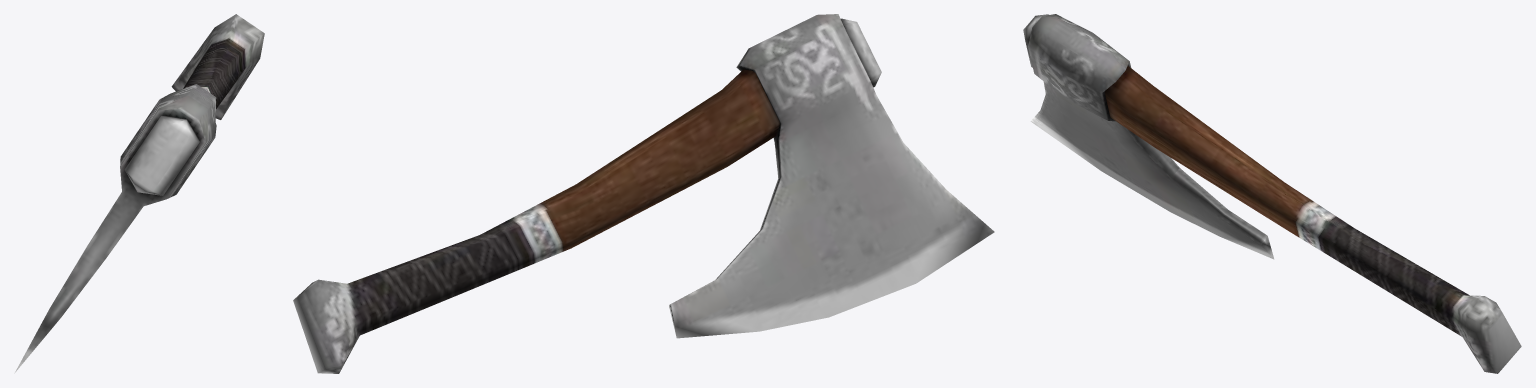
The model's file is rider-weapon-slice-ironweapons.glb.
3 renders of one model, left to right at view 1: azimuth 30°, elevation 25°; view 2: azimuth 150°, elevation 25°; view 3: azimuth 270°, elevation 25°, orthographic. The views are drawn at different scales.
Size of the model in its own units: 0.8475 by 0.4453 by 0.8585.
1 material, 1 textured.
